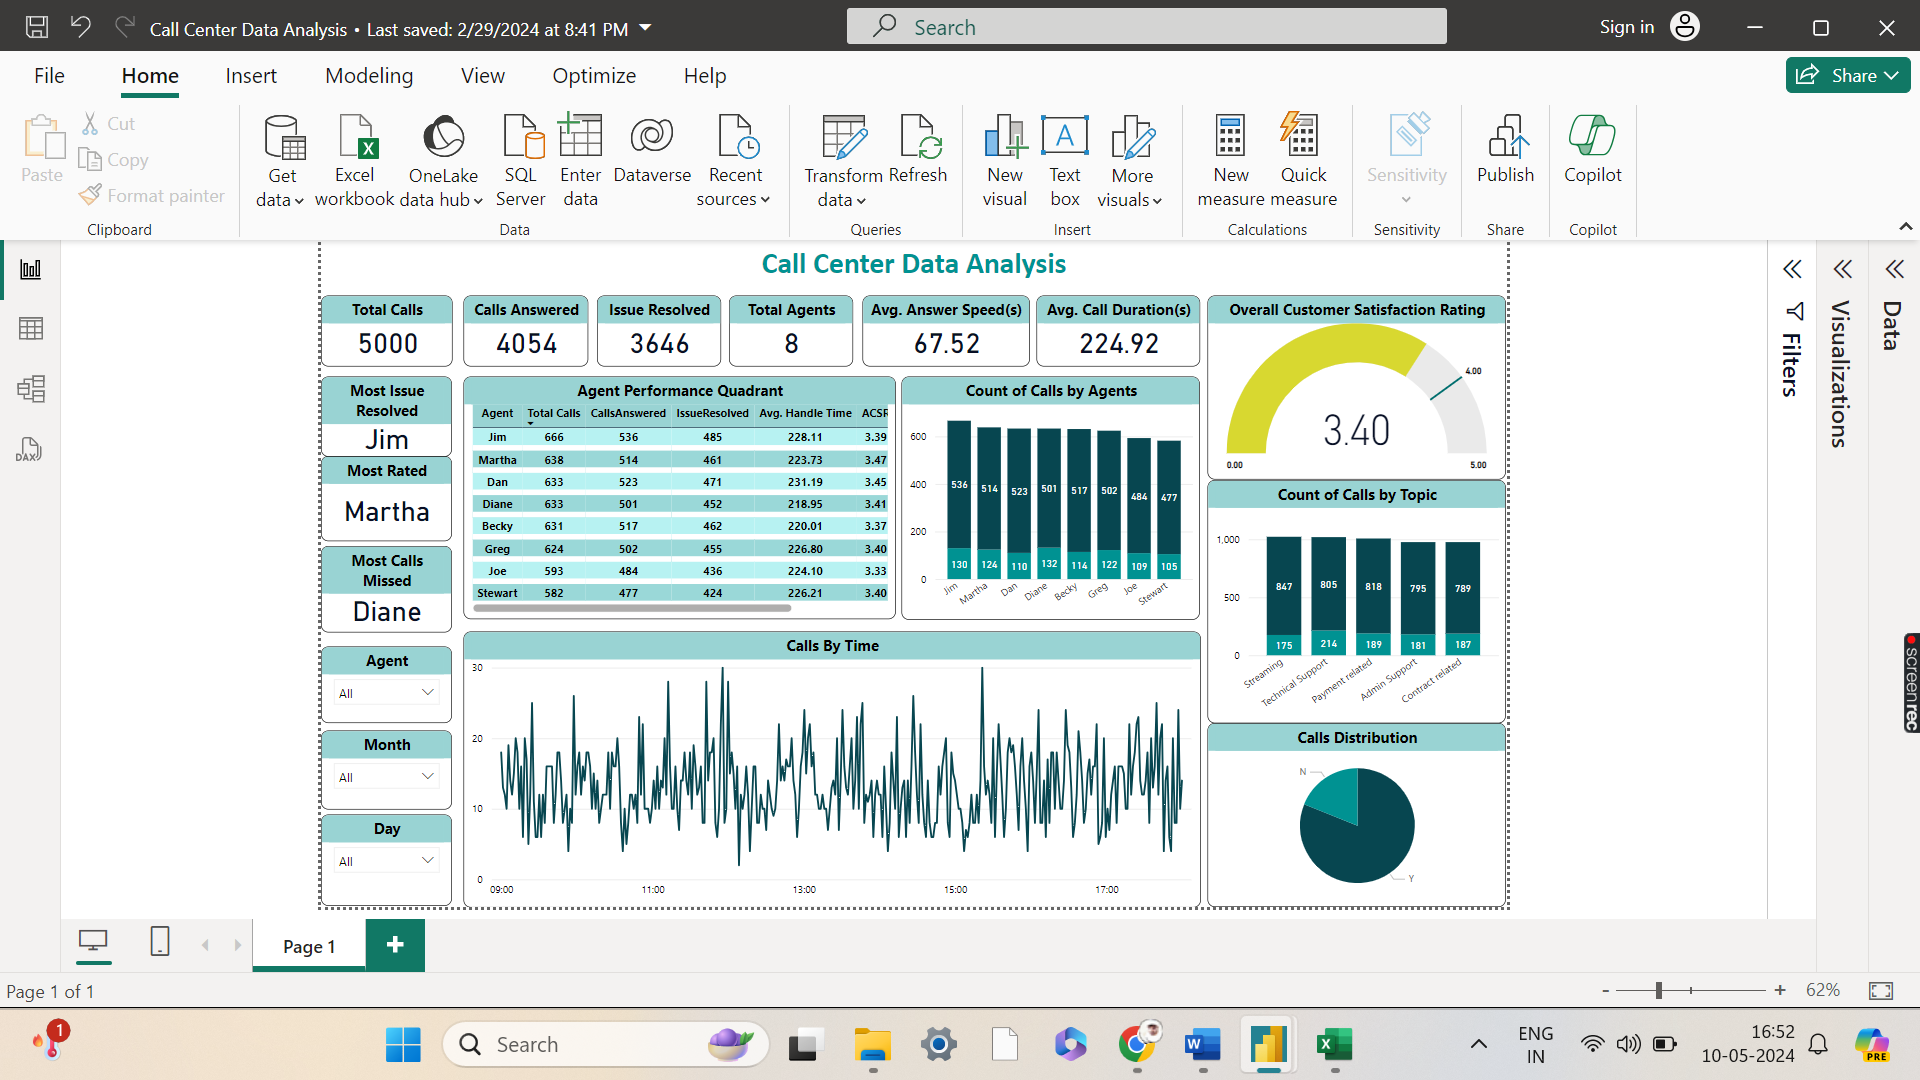

The page's visual inventory and layout, read from the dashboard file:
{"tool":"powerbi","page":{"name":"Page 1","canvas":[1280,720],"ordinal":0},"visuals":[{"type":"card","title":"Total Calls","fields":{"Values":["Call Center Data.Call Id"]},"box":[0,60.5,142,76.8],"z":0},{"type":"card","title":"Calls Answered","fields":{"Values":["Call Center Data.CallsAnswered"]},"box":[153.6,60.5,135,76.8],"z":1000},{"type":"card","title":"Avg. Answer Speed(s)","fields":{"Values":["Call Center Data.Speed of answer in seconds"]},"box":[584.1,60.5,180.4,76.8],"z":2000},{"type":"card","title":"Total Agents","fields":{"Values":["Call Center Data.Agent"]},"box":[441,60.5,133.8,76.8],"z":3000},{"type":"card","title":"Issue Resolved","fields":{"Values":["Call Center Data.IssueResolved"]},"box":[297.9,60.5,133.8,76.8],"z":4000},{"type":"gauge","title":"Overall Customer Satisfaction Rating","fields":{"Y":["Call Center Data.Satisfaction rating"]},"box":[957.7,60.5,322.3,199],"z":5000},{"type":"card","title":"Avg. Call Duration(s)","fields":{"Values":["Call Center Data.AvgCallDuration(s)"]},"box":[772.7,60.5,176.9,76.8],"z":6000},{"type":"pieChart","title":"Calls Distribution","fields":{"Category":["Call Center Data.Answered (Y/N)"],"Y":["Call Center Data.Call Id"]},"box":[957.7,521.3,322.3,199],"z":7000},{"type":"columnChart","title":"Count of Calls by Topic","fields":{"Y":["Call Center Data.Call Id"],"Category":["Call Center Data.Topic"],"Series":["Call Center Data.Answered (Y/N)"]},"box":[957.7,259.2,322.3,262.5],"z":8000},{"type":"columnChart","title":"Count of Calls by Agents","fields":{"Y":["Call Center Data.Call Id"],"Series":["Call Center Data.Answered (Y/N)"],"Category":["Call Center Data.Agent"]},"box":[627.2,146.6,322.3,263],"z":9000},{"type":"tableEx","title":"Agent Performance Quadrant","fields":{"Values":["Call Center Data.Agent","Call Center Data.Call Id","Call Center Data.CallsAnswered","Call Center Data.IssueResolved","Call Center Data.AvgCallDuration(s)","Call Center Data.Satisfaction rating","Call Center Data.%TotalCallsAnswered"]},"box":[153.6,147.8,466.6,261.8],"z":10000},{"type":"lineChart","title":"Calls By Time","fields":{"Category":["Call Center Data.Time"],"Y":["Call Center Data.Call Id"]},"box":[153.6,422.4,795.9,297.9],"z":11000},{"type":"card","title":"Most Issue Resolved","fields":{"Values":["Call Center Data.Agent"]},"box":[0,147,141.5,86.5],"z":12000},{"type":"card","title":"Most Rated","fields":{"Values":["Call Center Data.Agent"]},"box":[0,233.5,141.5,92],"z":13000},{"type":"card","title":"Most Calls Missed","fields":{"Values":["Call Center Data.Agent"]},"box":[0,329.6,141.5,93.4],"z":14000},{"type":"slicer","title":"Agent","fields":{"Values":["Call Center Data.Agent"]},"box":[0,439.5,141.5,82.4],"z":15000},{"type":"slicer","title":"Month","fields":{"Values":["Call Center Data.MonthName"]},"box":[0,528.8,141.5,85.2],"z":16000},{"type":"slicer","title":"Day","fields":{"Values":["Call Center Data.Date.Variation.Date Hierarchy.Day"]},"box":[0,620.8,141.5,98.9],"z":17000},{"type":"textbox","box":[0,0,1280,50.8],"z":18000}]}

Visuals, with their boxes on the page's 1280x720 design canvas (x1, y1, x2, y2). These are canvas units, not pixel positions in the 1920x1080 screenshot, which may show the page scaled, cropped or inside an application window:
"Total Calls" card: (0,60,142,137)
"Calls Answered" card: (154,60,289,137)
"Avg. Answer Speed(s)" card: (584,60,764,137)
"Total Agents" card: (441,60,575,137)
"Issue Resolved" card: (298,60,432,137)
"Overall Customer Satisfaction Rating" gauge: (958,60,1280,260)
"Avg. Call Duration(s)" card: (773,60,950,137)
"Calls Distribution" pieChart: (958,521,1280,720)
"Count of Calls by Topic" columnChart: (958,259,1280,522)
"Count of Calls by Agents" columnChart: (627,147,950,410)
"Agent Performance Quadrant" tableEx: (154,148,620,410)
"Calls By Time" lineChart: (154,422,950,720)
"Most Issue Resolved" card: (0,147,142,234)
"Most Rated" card: (0,234,142,326)
"Most Calls Missed" card: (0,330,142,423)
"Agent" slicer: (0,440,142,522)
"Month" slicer: (0,529,142,614)
"Day" slicer: (0,621,142,720)
textbox: (0,0,1280,51)
